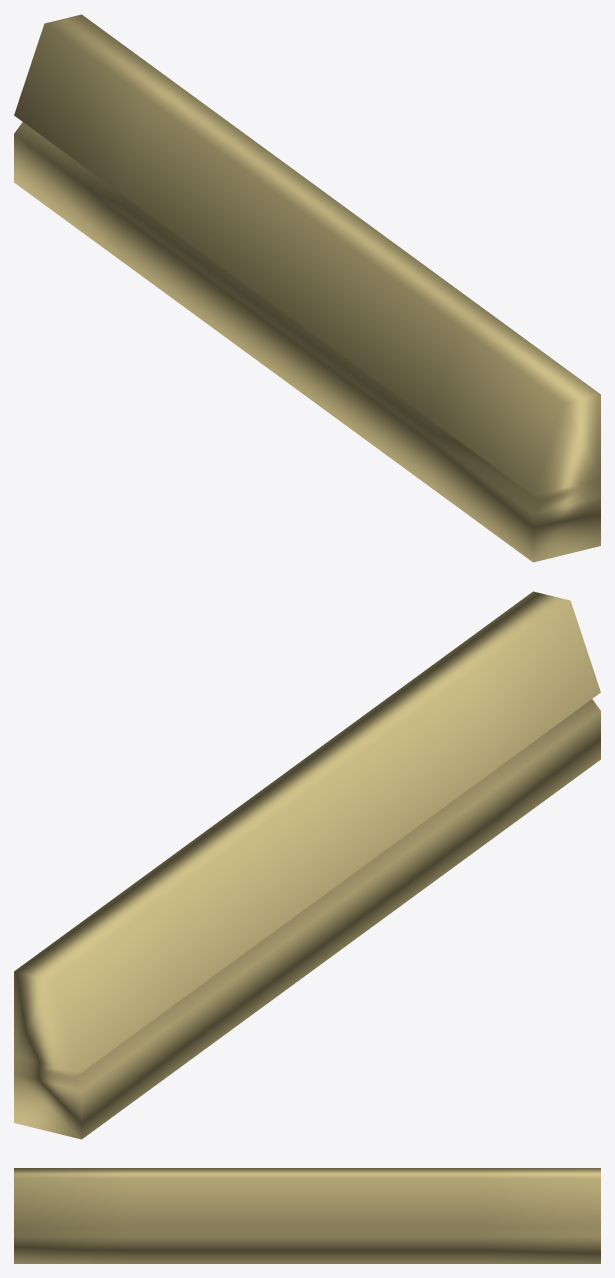
Rendered from Wall_Orn_03_x1.fbx.
The picture shows the model from 3 angles, top to bottom: view 1: azimuth 30°, elevation 25°; view 2: azimuth 150°, elevation 25°; view 3: azimuth 270°, elevation 25°; orthographic projection. The views are drawn at different scales.
Visible parts, largest first — view 1: Wall_Orn_03_x1; view 2: Wall_Orn_03_x1; view 3: Wall_Orn_03_x1.
Part boxes in pixels (x1=…): Wall_Orn_03_x1: x1=14, y1=14, x2=600, y2=562; Wall_Orn_03_x1: x1=14, y1=591, x2=600, y2=1139; Wall_Orn_03_x1: x1=14, y1=1168, x2=600, y2=1263.
Bounding box in the file's own units: 22.62 × 48.3 × 300.
